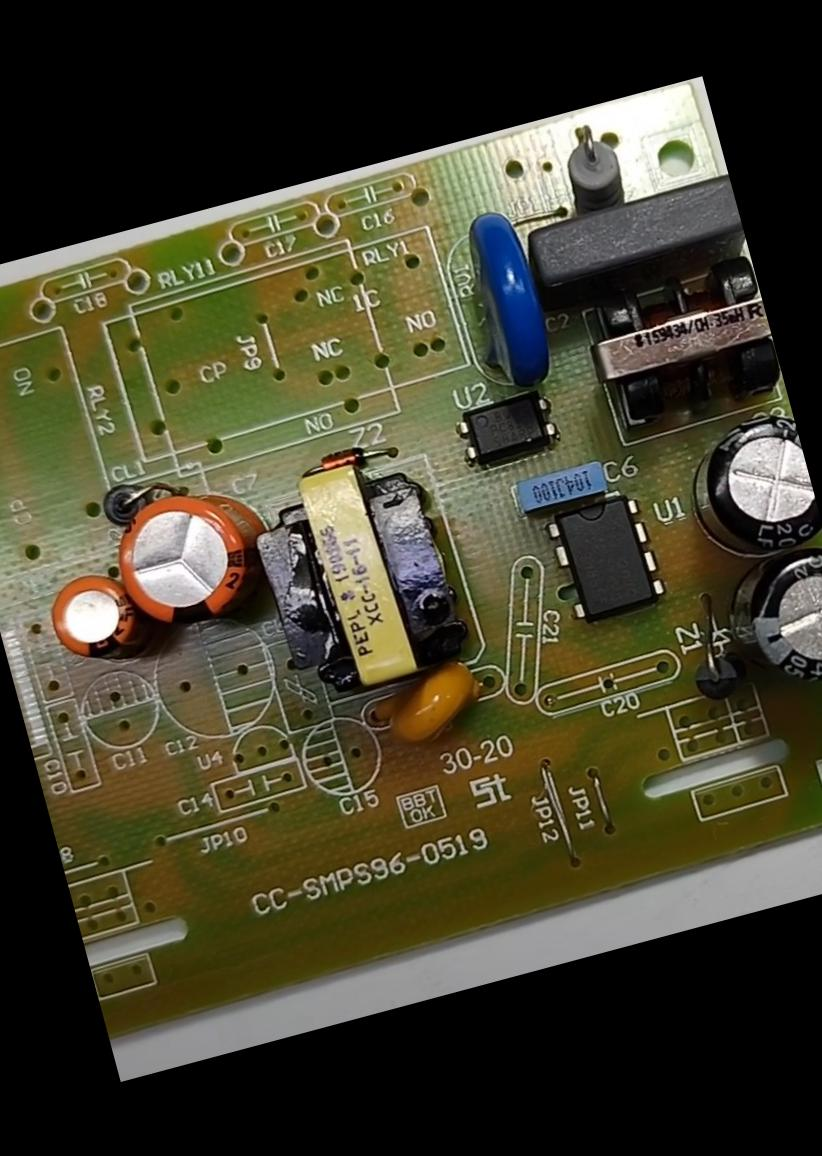Cap1: (104, 462, 296, 662)
Cap2: (31, 549, 158, 673)
Cap3: (664, 395, 821, 578)
Cap4: (710, 536, 821, 713)
MOSFET: (530, 474, 676, 643)
Mov: (431, 184, 568, 410)
Resistor: (548, 106, 640, 214)
Transformer: (229, 434, 488, 722), (565, 244, 788, 451)
